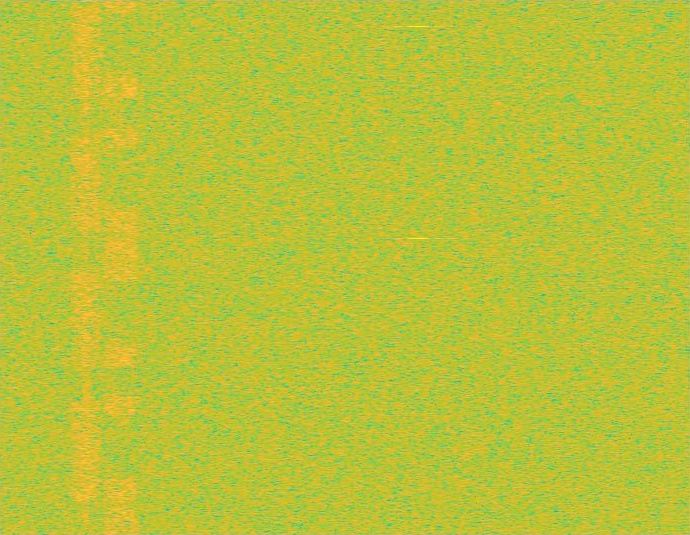5G: (69, 0, 104, 534)
DSSS: (82, 0, 90, 534)
LTE: (104, 0, 138, 534)
Radar: (412, 0, 426, 534)
